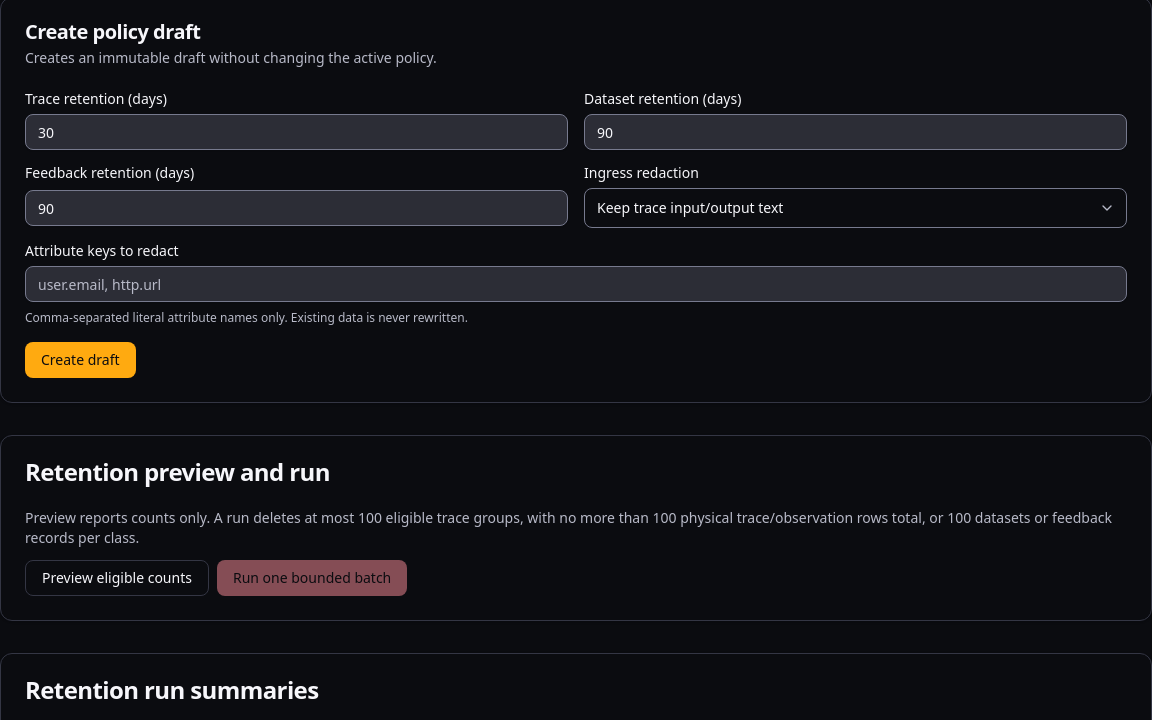
Scenario: GovernancePage project-scoped mutations › reports an equivalent policy as a no-op rather than claiming a draft was created
This screenshot has width=1152, height=720.
(page scrolled)
Click the button "Create draft". click: (80, 360)
box: top-left (25, 342), bottom-right (136, 378)
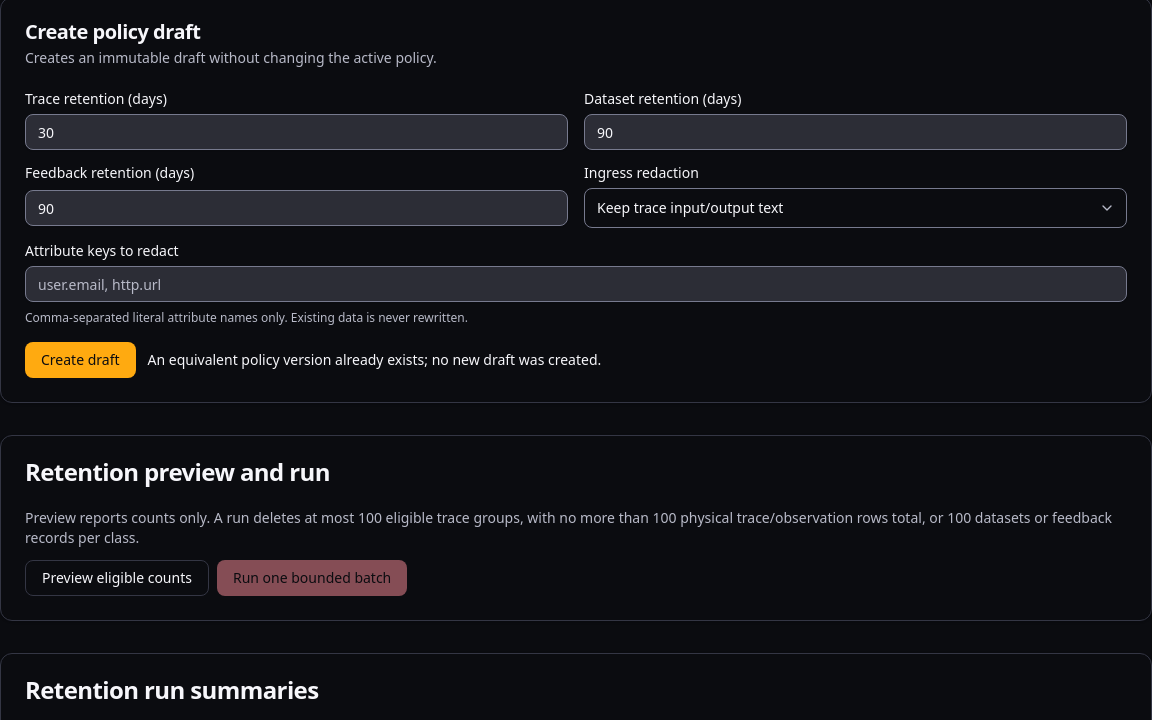
Now the text "An equivalent policy version already exists; no new draft was created." is shown, box top-left (148, 350), bottom-right (601, 370)
